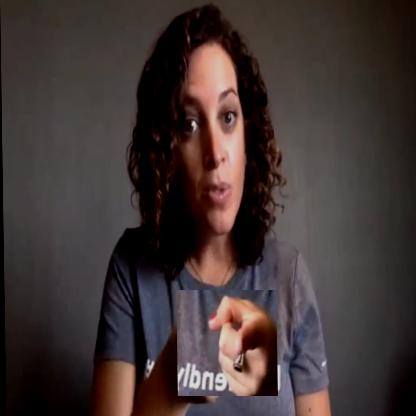HowAreYou: (175, 290, 277, 396)
